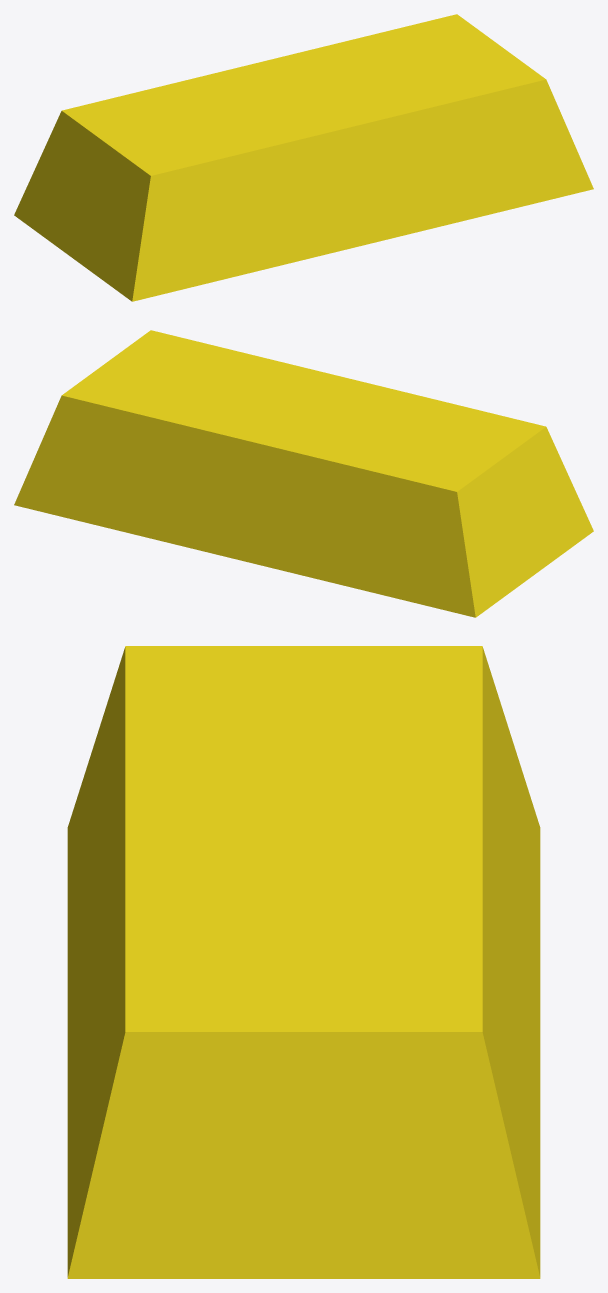
Rendered from SM_Collection_05.fbx.
The picture shows the model from 3 angles, top to bottom: view 1: azimuth 30°, elevation 25°; view 2: azimuth 150°, elevation 25°; view 3: azimuth 270°, elevation 25°; orthographic projection. The views are drawn at different scales.
Parts seen in each view (by area): view 1: SM_Gold_01; view 2: SM_Gold_01; view 3: SM_Gold_01.
Boxes of the visible parts, <box> form: SM_Gold_01: <box>14,14,593,301</box>; SM_Gold_01: <box>14,330,593,617</box>; SM_Gold_01: <box>67,646,540,1278</box>.
Size of the model in its own units: 41.52 by 9.21 by 18.42.
